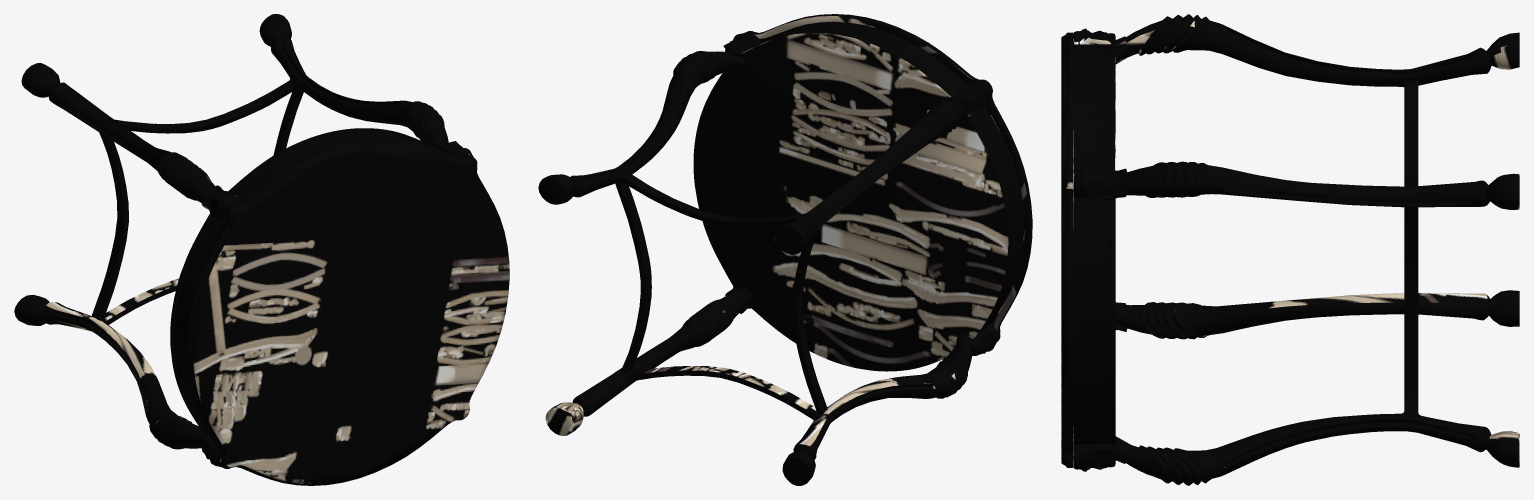
3 renders of one model, left to right at view 1: azimuth 30°, elevation 25°; view 2: azimuth 150°, elevation 25°; view 3: azimuth 270°, elevation 25°, orthographic. The views are drawn at different scales.
Bounding box in the file's own units: 0.6823 × 0.6823 × 0.7337.
